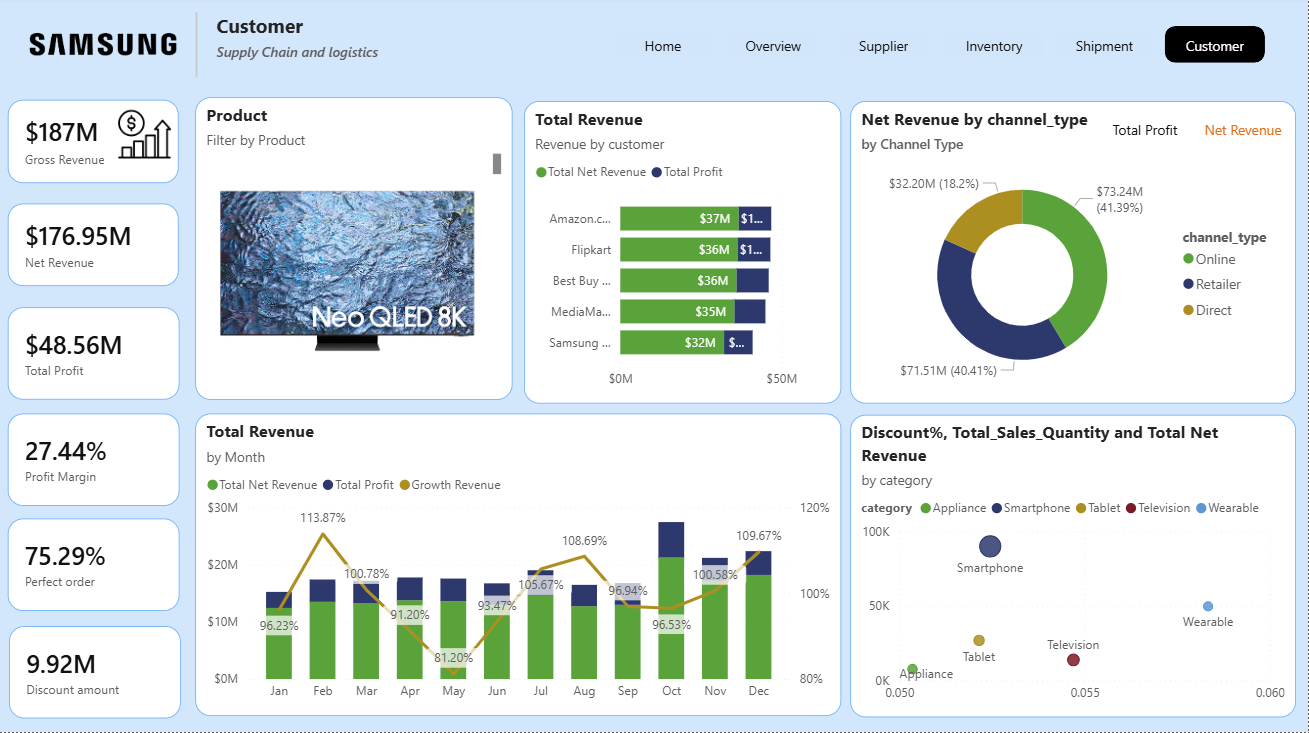

Layout of this report page (visuals, bound fields, positions):
{"tool":"powerbi","page":{"name":"Customer","canvas":[1280,720],"ordinal":5},"visuals":[{"type":"textbox","title":"Customer","box":[207.9,15.9,220.1,80],"z":0},{"type":"shape","box":[178.5,15.9,29.3,63.6],"z":1000},{"type":"image","box":[18.8,23.8,160,47.5],"z":2000},{"type":"cardVisual","fields":{"Data":["MeasuresTable.Total_Profit"]},"box":[9.1,305,168,90],"z":3000},{"type":"cardVisual","fields":{"Data":["MeasuresTable.Profit_Margin %"]},"box":[9.1,409,168,90],"z":4000},{"type":"cardVisual","fields":{"Data":["MeasuresTable.Perfect order %"]},"box":[9.1,511.7,168,90],"z":5000},{"type":"cardVisual","fields":{"Data":["Sum(Fact_sales.discount_amount)"]},"box":[10.4,615.7,168,90],"z":6000},{"type":"barChart","title":"Total Revenue","fields":{"Category":["Dim_customer.customer_name"],"Y":["MeasuresTable.Total Net Revenue","MeasuresTable.Total Profit"]},"box":[513.9,102.5,310.2,295.7],"z":7000},{"type":"group","id":"g1","title":"Group 1","box":[8.9,101.1,167.2,81.7],"z":8000},{"type":"group","id":"g2","title":"Group 2","box":[8.8,202.5,167.5,81],"z":9000},{"type":"group","id":"g3","title":"Group 3","box":[833.4,102.5,436.4,295.7],"z":10000},{"type":"lineStackedColumnComboChart","title":"Total Revenue","fields":{"Category":["Dim_date.Month Short"],"Y":["MeasuresTable.Total Net Revenue","MeasuresTable.Total Profit"],"Y2":["MeasuresTable.Growth Revenue"]},"box":[191.9,408.8,632.2,295.7],"z":11000},{"type":"scatterChart","fields":{"X":["MeasuresTable.Discount%"],"Y":["MeasuresTable.Total_Sales_Quantity"],"Series":["Dim_product.category"],"Size":["MeasuresTable.Total Net Revenue"]},"box":[833.4,410.1,436.4,295.7],"z":12000},{"type":"advancedSlicerVisual","title":"Product","fields":{"Values":["Dim_product.product_name"]},"box":[191.9,98.6,310,295.7],"z":13000},{"type":"pageNavigator","box":[600.7,28.9,641.4,36.8],"z":14000},{"type":"group","id":"g4","title":"Group 2","box":[833.4,102.5,436.2,295.7],"z":16001,"group":"g3"},{"type":"donutChart","fields":{"Y":["MeasuresTable.Total Net Revenue"],"Category":["Dim_customer.channel_type"]},"box":[833.4,102.5,436.2,295.7],"z":19000,"group":"g4"},{"type":"cardVisual","fields":{"Data":["MeasuresTable.Total_Revenue"]},"box":[8.8,202.5,167.5,81],"z":19000,"group":"g2"},{"type":"advancedSlicerVisual","fields":{"Values":["Parameter.Parameter"]},"box":[1078.2,107.8,191.6,46.6],"z":19001,"group":"g3"},{"type":"cardVisual","fields":{"Data":["Sum(Fact_sales.gross_revenue)"]},"box":[8.9,101.1,167.2,81.7],"z":24000,"group":"g1"},{"type":"image","box":[113.1,107.5,60,55],"z":41000,"group":"g1"}]}

Visuals, with their boxes in screenshot pixels (x1, y1, x2, y2), scaled from the page's 1280x720 canvas onto the 1309x733 screenshot:
"Customer" textbox: [213,16,438,98]
shape: [183,16,213,81]
image: [19,24,183,73]
cardVisual - MeasuresTable.Total_Profit: [9,311,181,402]
cardVisual - MeasuresTable.Profit_Margin %: [9,416,181,508]
cardVisual - MeasuresTable.Perfect order %: [9,521,181,613]
cardVisual - Sum(Fact_sales.discount_amount): [11,627,182,718]
"Total Revenue" barChart: [526,104,843,405]
"Group 1" group: [9,103,180,186]
"Group 2" group: [9,206,180,289]
"Group 3" group: [852,104,1299,405]
"Total Revenue" lineStackedColumnComboChart: [196,416,843,717]
scatterChart - MeasuresTable.Discount% x MeasuresTable.Total_Sales_Quantity: [852,418,1299,719]
"Product" advancedSlicerVisual: [196,100,513,401]
pageNavigator: [614,29,1270,67]
"Group 2" group: [852,104,1298,405]
donutChart - MeasuresTable.Total Net Revenue x Dim_customer.channel_type: [852,104,1298,405]
cardVisual - MeasuresTable.Total_Revenue: [9,206,180,289]
advancedSlicerVisual - Parameter.Parameter: [1103,110,1299,157]
cardVisual - Sum(Fact_sales.gross_revenue): [9,103,180,186]
image: [116,109,177,165]
